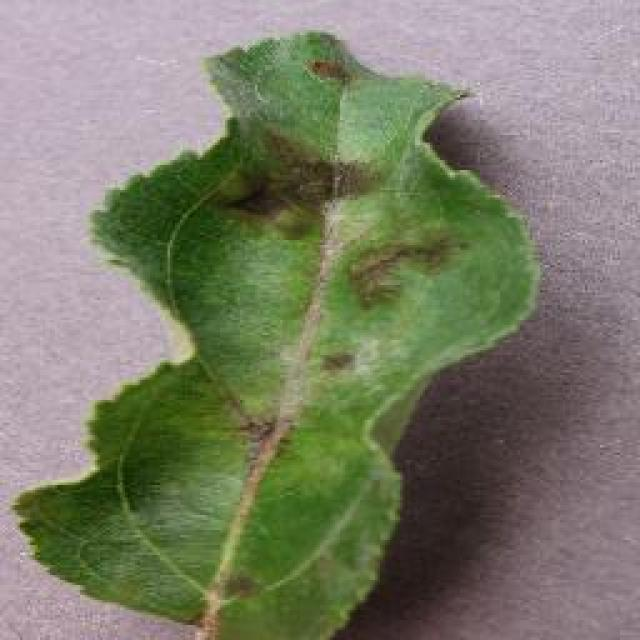apple scab disease: (10, 28, 542, 638)
